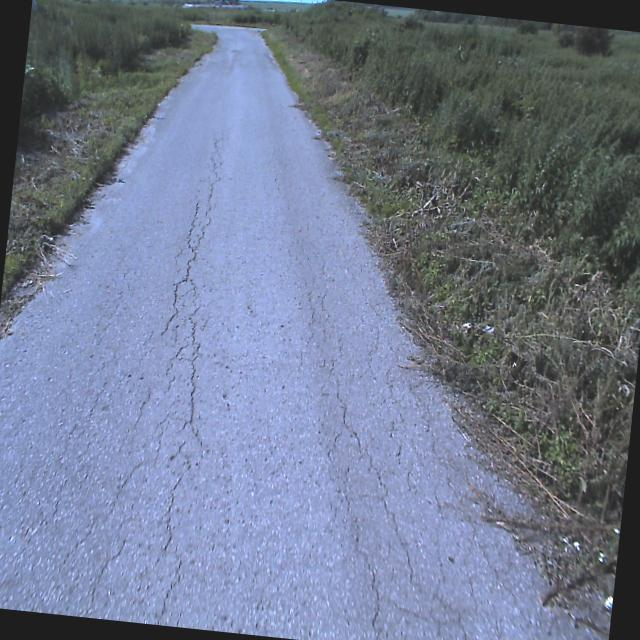road: (0, 24, 580, 640)
